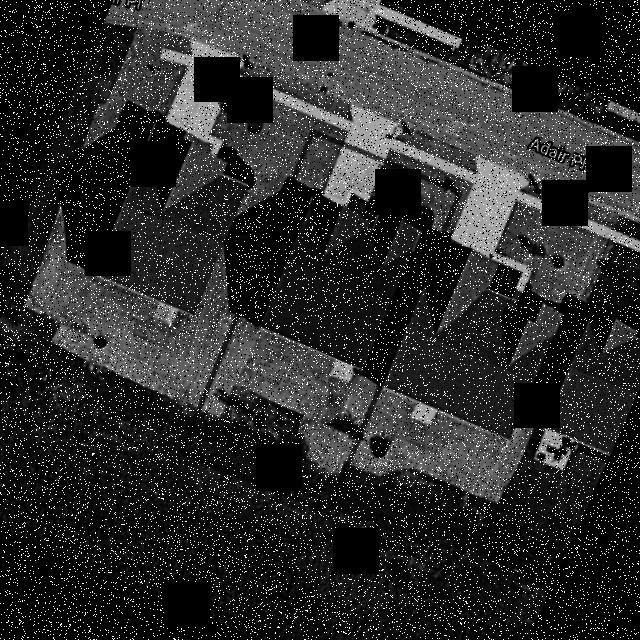Driveway: (322, 145, 384, 212)
Extra Driveway: (345, 104, 400, 157)
Extra Lawn: (387, 150, 464, 190), (396, 129, 475, 164), (317, 120, 347, 140), (326, 95, 351, 115)
Extra Sidewalk: (390, 139, 470, 182), (320, 108, 351, 130)
House: (258, 191, 419, 370)
Other: (329, 359, 352, 383)
